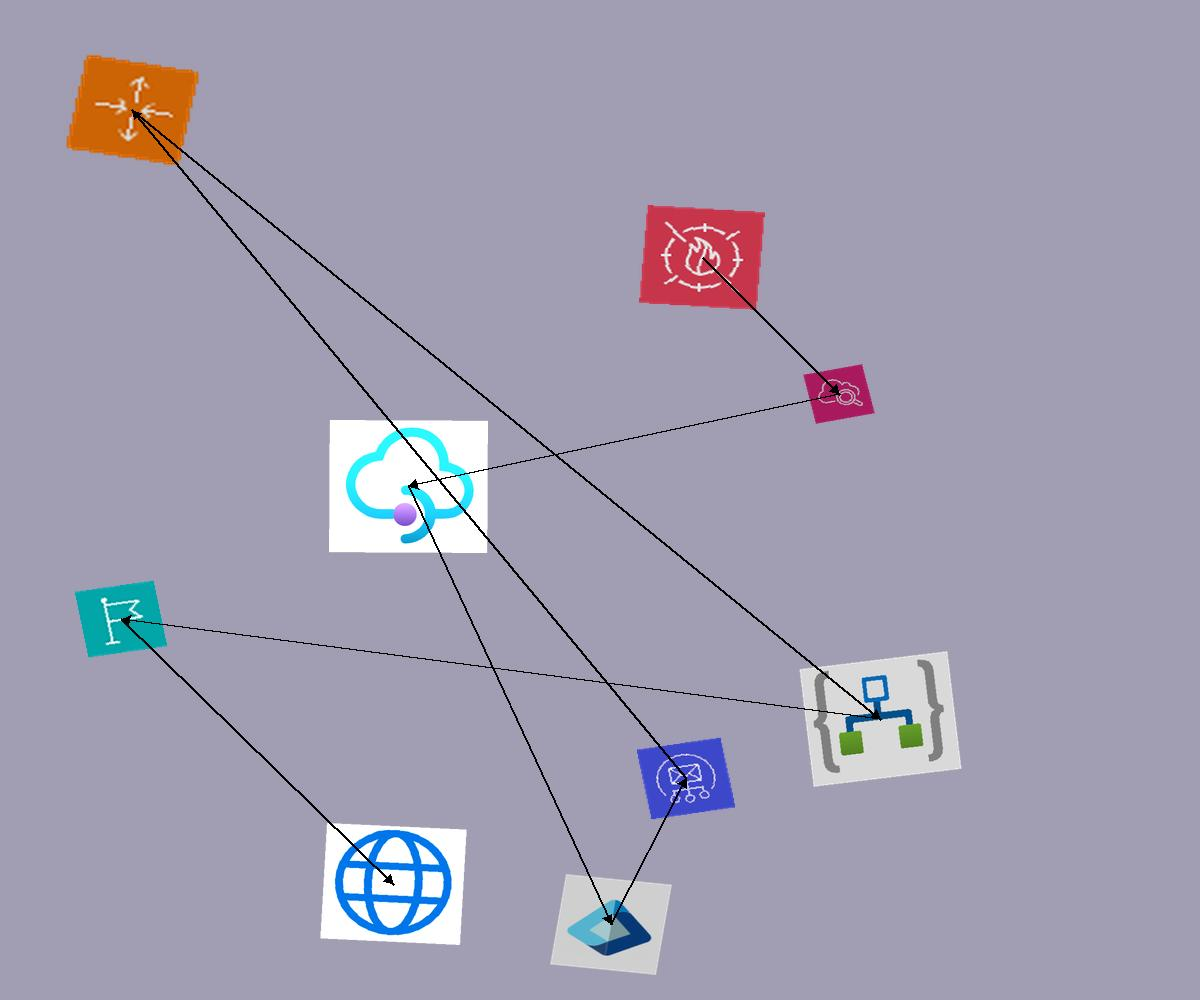AWS-CloudWatch: (803, 364, 875, 424)
AWS-Region: (74, 580, 168, 658)
AWS-Scaling-group: (64, 53, 201, 167)
AWS-Simple-Email-Service: (636, 737, 736, 820)
AWS-WAF: (639, 205, 765, 310)
Azure_api_gateway: (329, 420, 488, 553)
Azure_http: (320, 823, 467, 945)
Azure_integration-204-Logic-Apps: (799, 651, 962, 787)
Azure_microsoft_entra: (550, 874, 672, 975)
